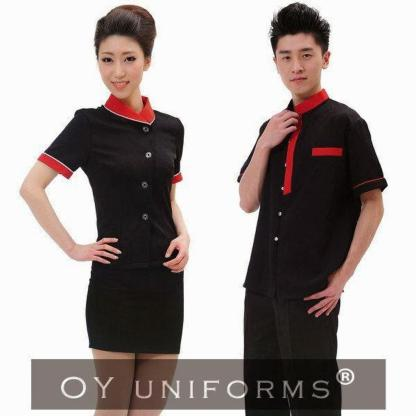face: (99, 31, 146, 99), (277, 31, 324, 95)
